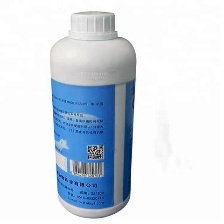insecticide: (47, 6, 138, 221)
